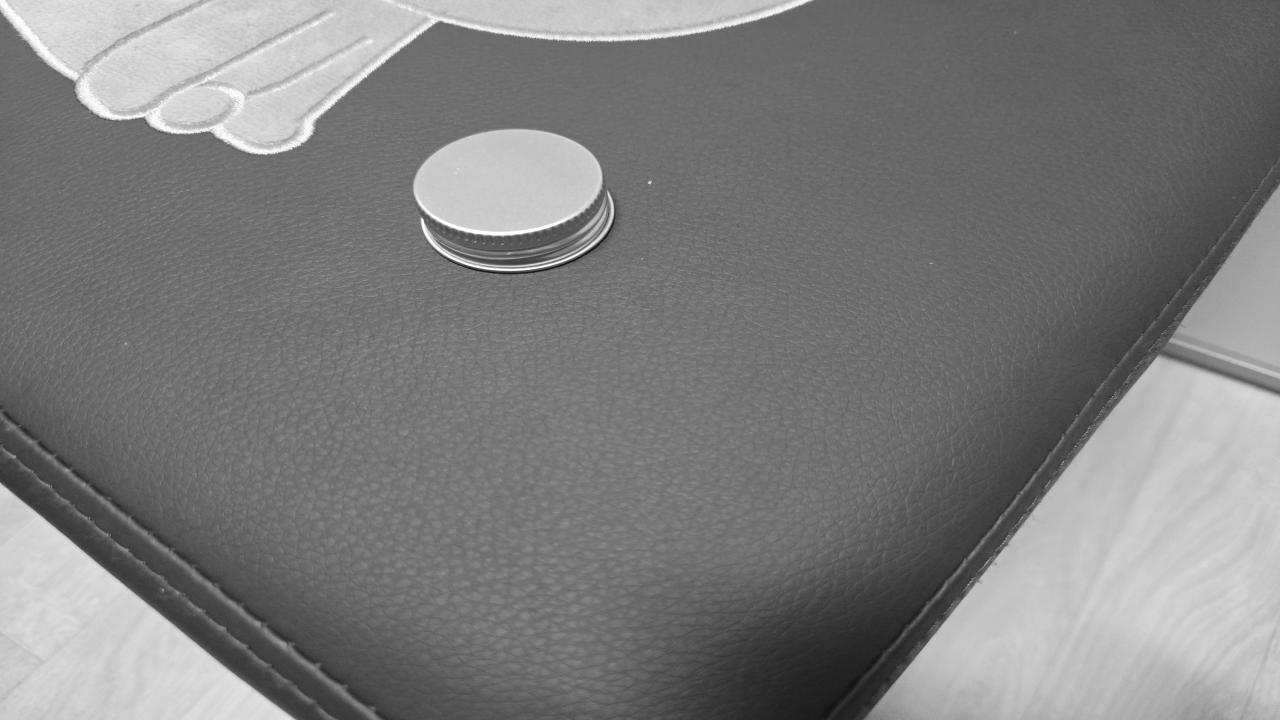bottle_cap: (410, 124, 619, 280)
